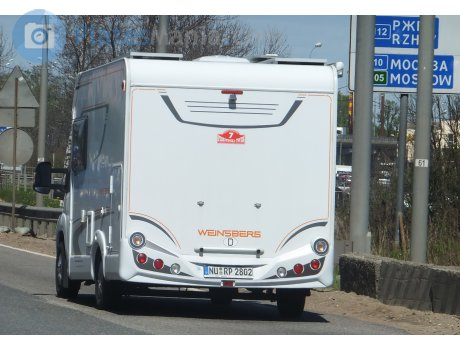License Plates: (208, 264, 263, 277)
